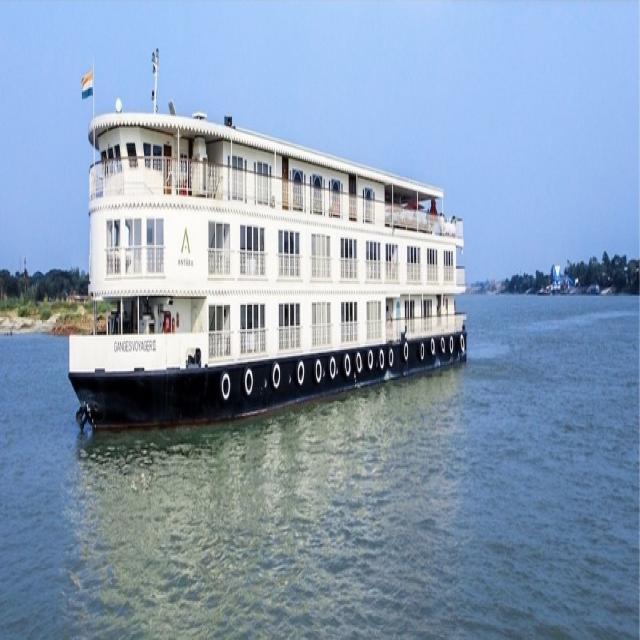passenger ship: (51, 48, 481, 444)
